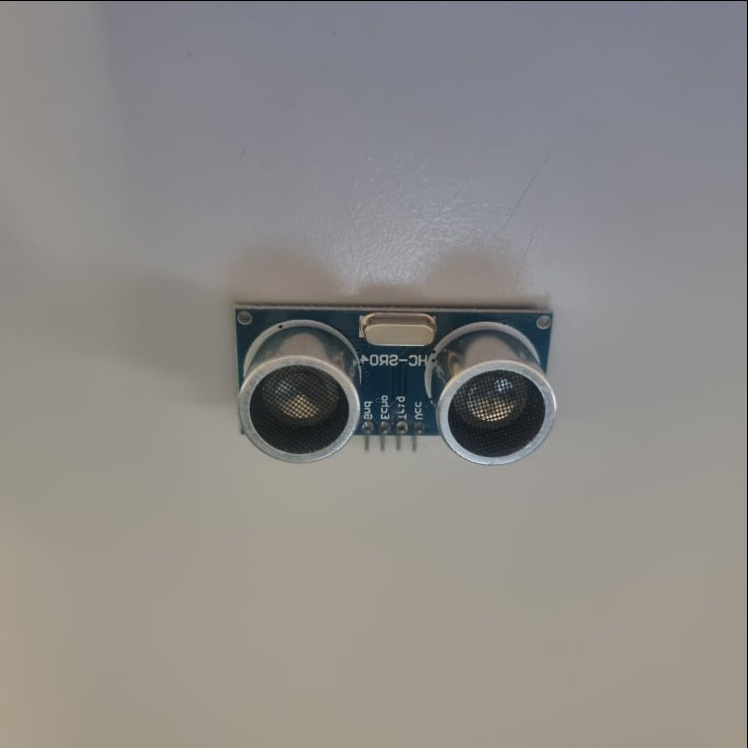SENSOR: (234, 303, 558, 467)
